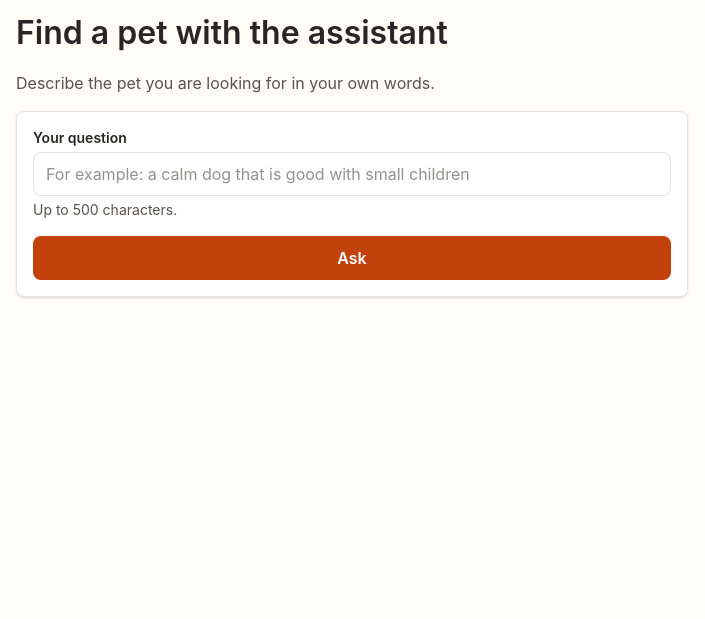
Test: AssistantPage › shows the answer and the matching ads after asking a question
This screenshot has width=705, height=619.
Step 1. Type "a calm dog" into the field labelled "Your question" → (352, 174), box [33,152,671,196]
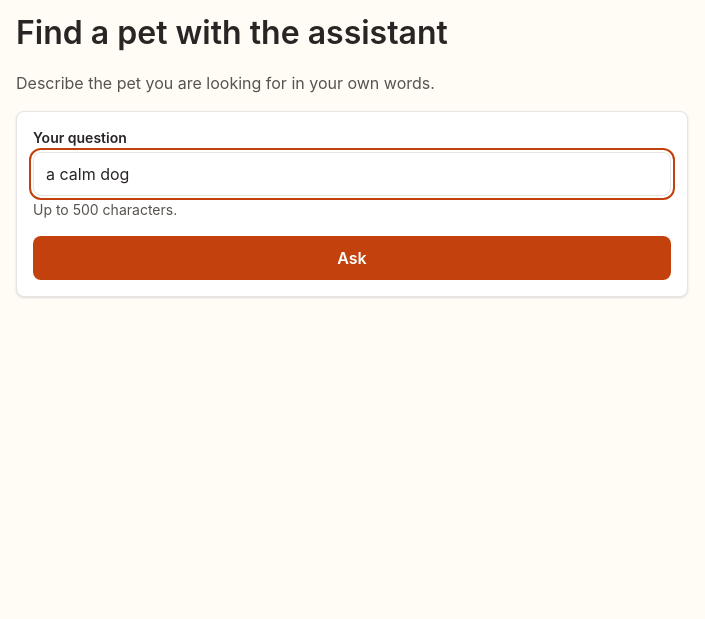
Step 2. Click the button "Ask" → (352, 258), box [33,236,671,280]
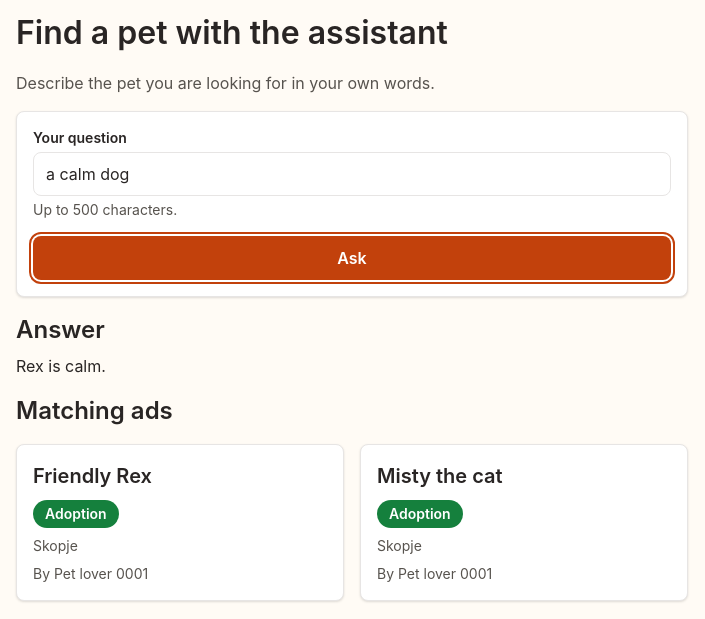
Expected: the text "Rex is calm." is shown, [16,356,106,376]
Expected: the heading "Matching ads" is shown, [16,396,173,425]
Expected: the heading "Friendly Rex" is shown, [33,464,152,488]
